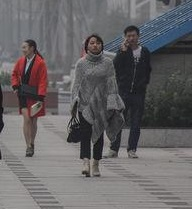person: (65, 33, 126, 178), (103, 25, 154, 161), (10, 37, 51, 159)
